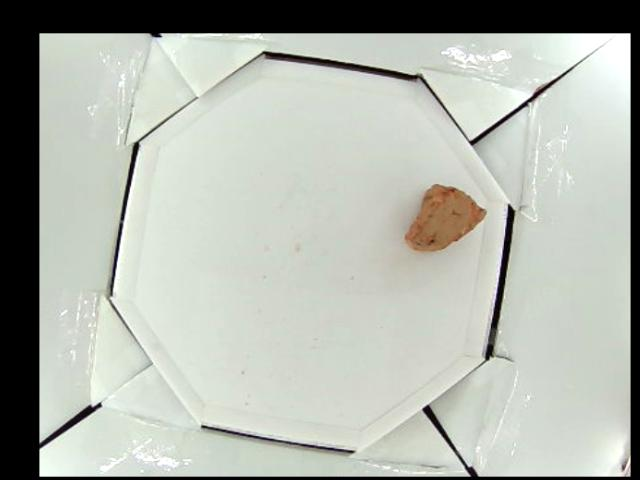Brisk: (404, 185, 486, 253)
